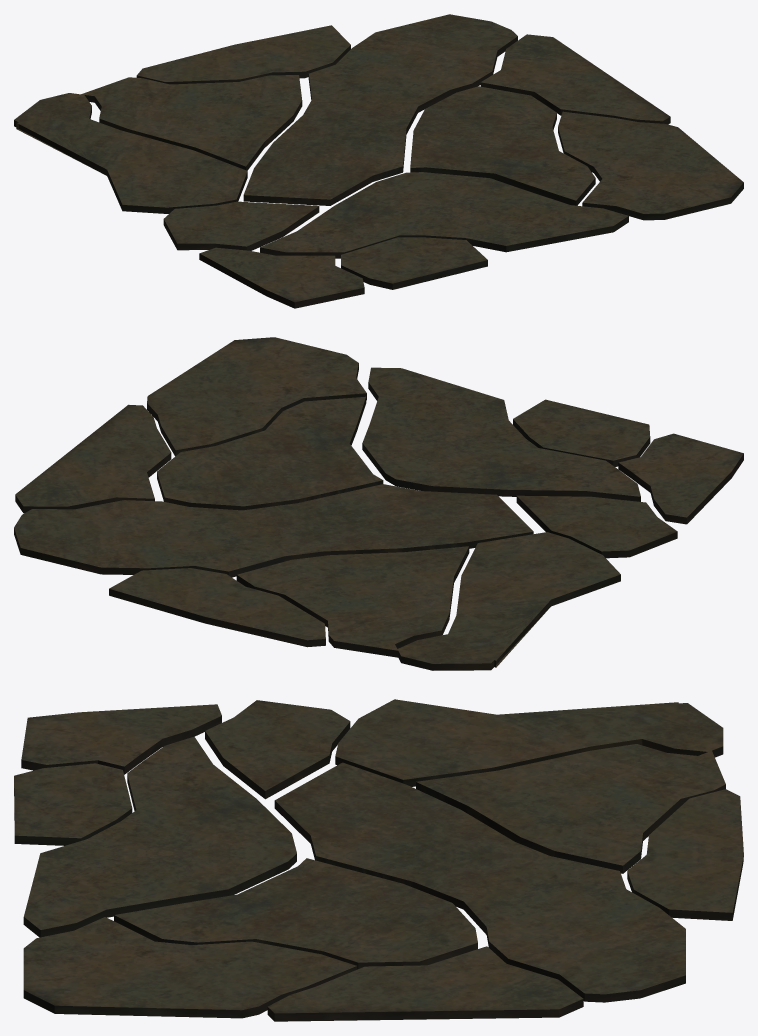
File: 03_02_containment_cube_glass_shards_top.dae
3 views of the same model, one above another, from view 1: azimuth 30°, elevation 25°; view 2: azimuth 150°, elevation 25°; view 3: azimuth 270°, elevation 25° (orthographic). The views are drawn at different scales.
Visible parts, largest first — view 1: shards_top; view 2: shards_top; view 3: shards_top.
Boxes of the visible parts, x1,y1,x2,y2 form: shards_top: [14, 14, 743, 308]; shards_top: [14, 337, 743, 670]; shards_top: [14, 699, 743, 1021].
Bounding box in the file's own units: 3.44 × 0.042 × 3.38.
